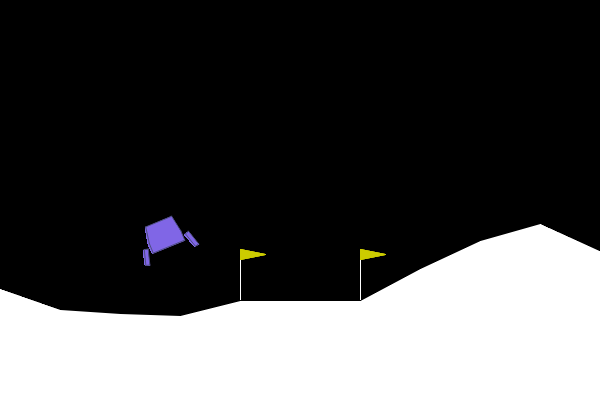lander: (130, 209, 200, 269)
